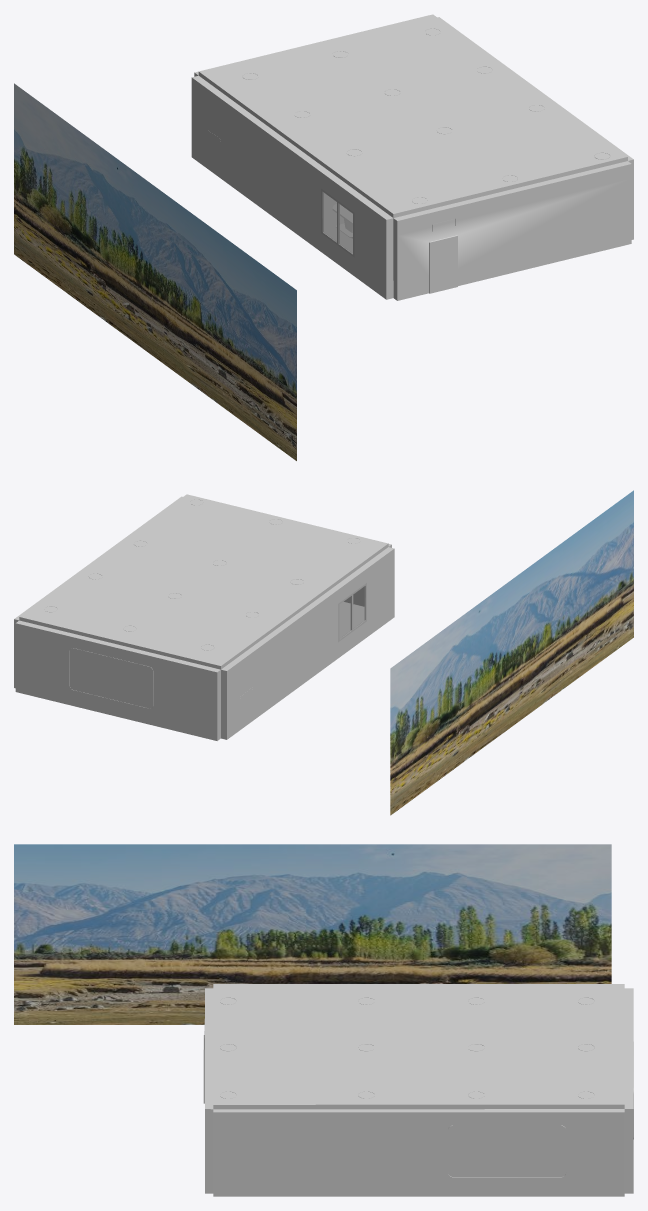
The model's file is MEG_room.fbx.
3 views of the same model, one above another, from view 1: azimuth 30°, elevation 25°; view 2: azimuth 150°, elevation 25°; view 3: azimuth 270°, elevation 25° (orthographic). The views are drawn at different scales.
Parts seen in each view (by area): view 1: Building, Plane, Door_window; view 2: Building, Plane, Door_window; view 3: Plane, Building.
Boxes of the visible parts, bbox=[...] form: Building: bbox=[191, 14, 633, 300]; Plane: bbox=[14, 83, 296, 460]; Door_window: bbox=[321, 188, 354, 257]; Building: bbox=[14, 494, 394, 740]; Plane: bbox=[390, 490, 633, 815]; Door_window: bbox=[338, 583, 366, 642]; Plane: bbox=[14, 844, 611, 1024]; Building: bbox=[203, 984, 633, 1196].
Bounding box in the file's own units: 2325 × 880 × 2738.
